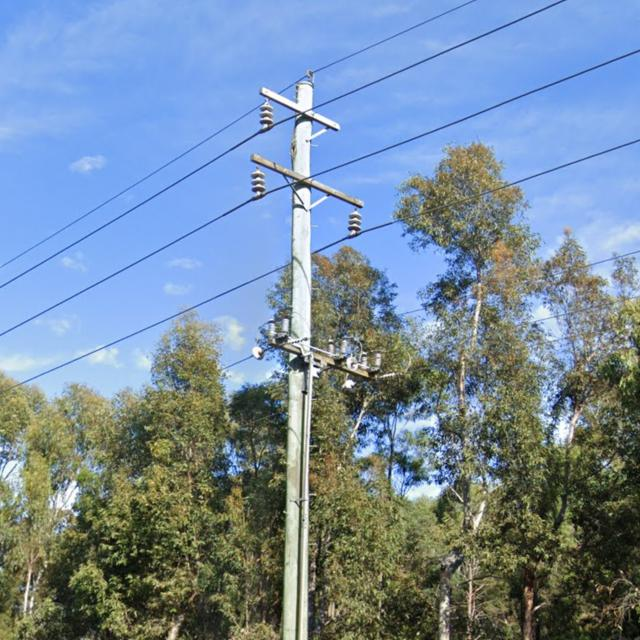HV-transmission: (250, 69, 363, 239), (251, 315, 403, 382)
crossarm: (250, 154, 362, 208), (268, 333, 370, 378), (259, 86, 340, 132)
timber-pole: (280, 84, 312, 630)
